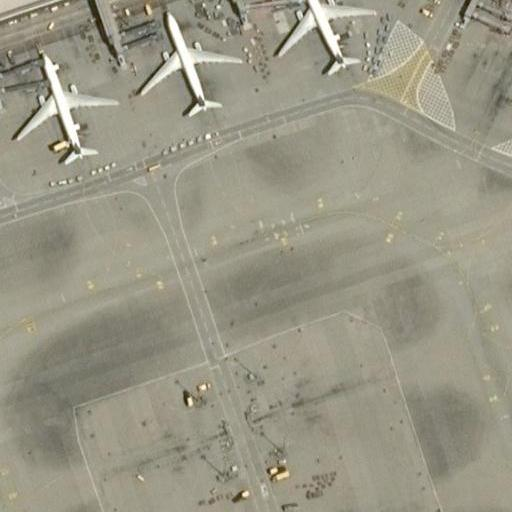Aircraft: (4, 42, 124, 167), (125, 0, 245, 120), (9, 46, 116, 166), (133, 6, 242, 119), (265, 0, 377, 75), (271, 0, 377, 78)
